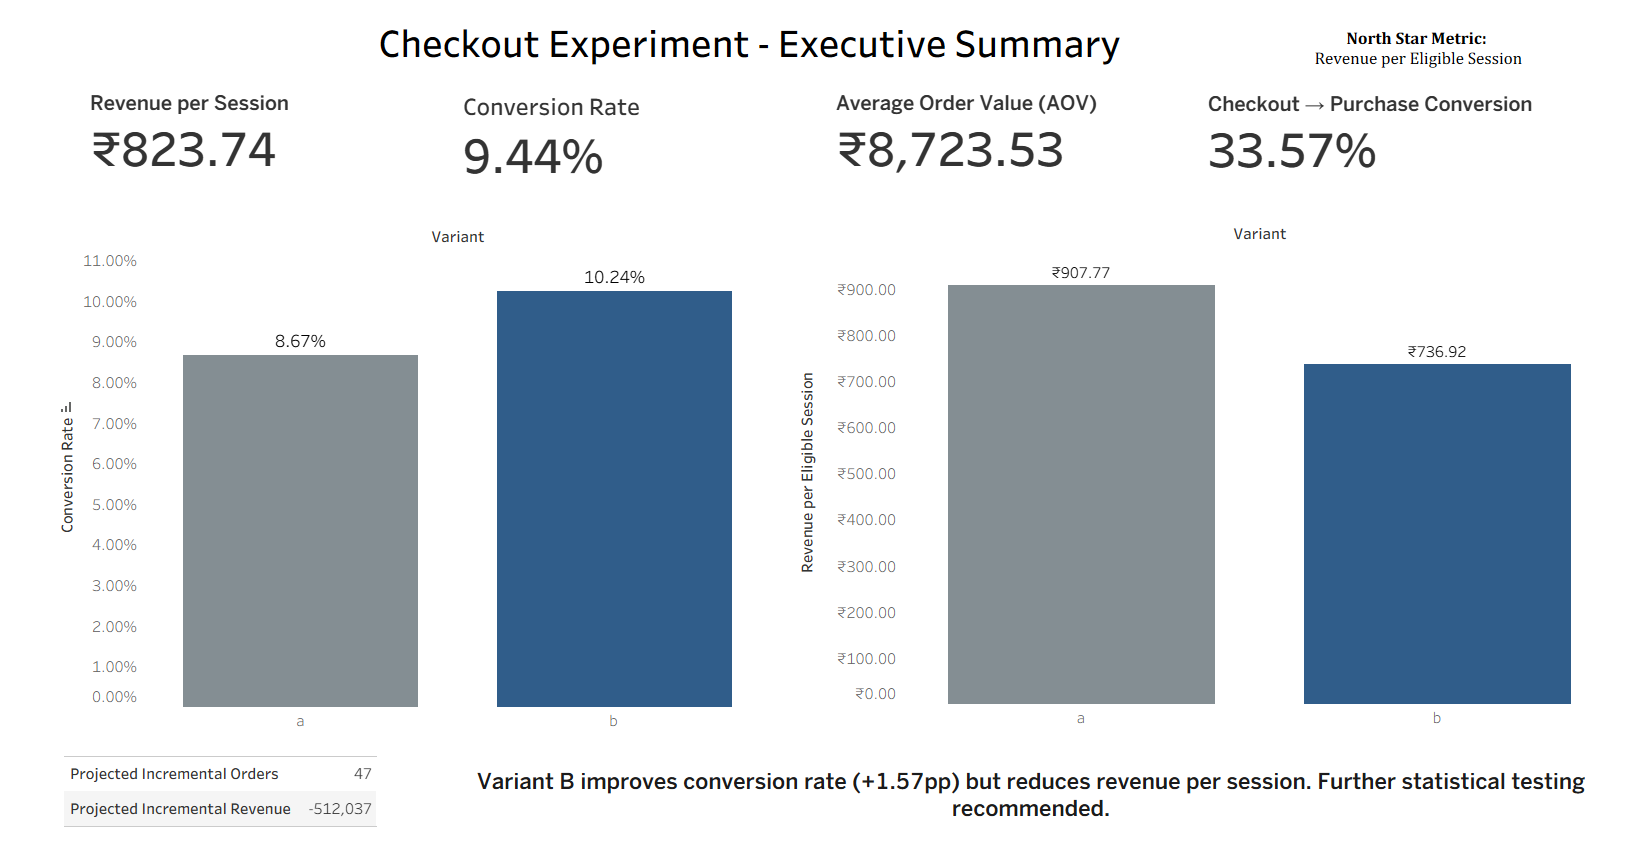

What the dashboard file says about the page in this screenshot:
{"tool":"tableau","page":{"name":"Checkout Experiment - Executive Summary","canvas":[1000,1000],"units":"permille","ordinal":0},"visuals":[{"type":"text","box":[194.9,11.6,517.2,82.5]},{"type":"text","box":[778.3,30.2,155.2,58.1]},{"type":"worksheet","title":"KPI_Revenue","mark":"Automatic","box":[50.7,104.5,225.1,151]},{"type":"worksheet","title":"KPI_Conversion","mark":"Automatic","box":[275.8,104.5,225.1,151]},{"type":"worksheet","title":"KPI_AOV","mark":"Automatic","box":[500.9,104.5,224.5,151]},{"type":"worksheet","title":"KPI_Checkout","mark":"Automatic","box":[725.4,104.5,224.5,151]},{"type":"worksheet","title":"AB Revenue","mark":"Automatic","rows":["Calculation_2002694502393806849"],"cols":["variant"],"box":[475,257.8,504.1,597]},{"type":"worksheet","title":"AB Conversion","mark":"Automatic","rows":["Calculation_2002694502389956608"],"cols":["variant"],"box":[28.5,261.3,440.8,597]},{"type":"text","box":[286.3,875.7,674.5,103.4]},{"type":"worksheet","title":"Impact Sheet","mark":"Automatic","box":[37.4,876.9,219.8,91.8]}]}

Visuals, with their boxes on the dashboard's canvas, which has no fixed pixel size, in thousandths of its width and height (x1, y1, x2, y2). These are canvas units, not pixel positions in the 1635x847 screenshot, which may show the page scaled, cropped or inside an application window:
text: l=195, t=12, r=712, b=94
text: l=778, t=30, r=934, b=88
"KPI_Revenue" worksheet: l=51, t=104, r=276, b=256
"KPI_Conversion" worksheet: l=276, t=104, r=501, b=256
"KPI_AOV" worksheet: l=501, t=104, r=725, b=256
"KPI_Checkout" worksheet: l=725, t=104, r=950, b=256
"AB Revenue" worksheet: l=475, t=258, r=979, b=855
"AB Conversion" worksheet: l=28, t=261, r=469, b=858
text: l=286, t=876, r=961, b=979
"Impact Sheet" worksheet: l=37, t=877, r=257, b=969
